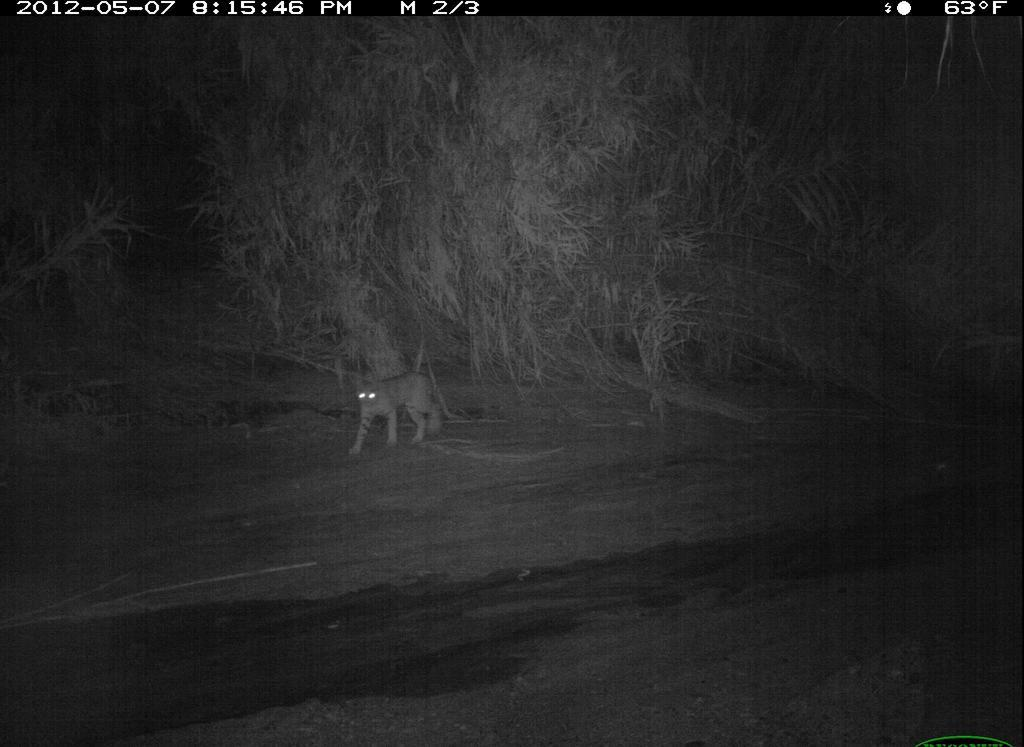bobcat: (335, 363, 460, 461)
